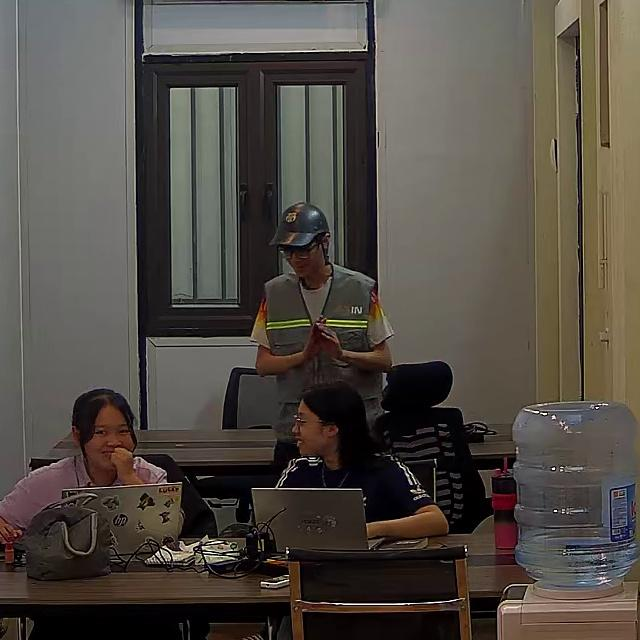helmet: (269, 201, 332, 248)
no_helmet: (297, 384, 376, 465), (71, 388, 136, 451)
none: (1, 453, 171, 537), (271, 451, 436, 529)
